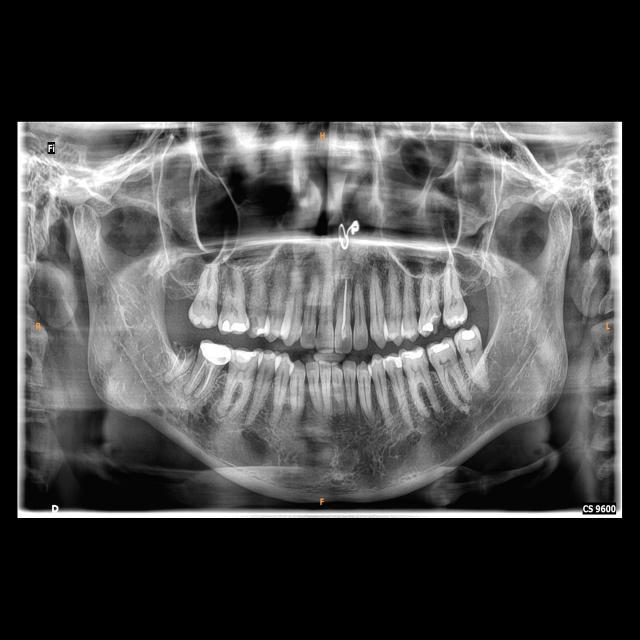dentin-curugu: (428, 310, 448, 336)
dolgu: (232, 344, 260, 366), (429, 339, 452, 362), (456, 326, 482, 346), (402, 346, 428, 366), (222, 315, 250, 333), (251, 315, 272, 337), (384, 353, 402, 373), (419, 315, 435, 335)
kanal-tedavisi: (192, 361, 214, 394), (338, 276, 349, 340), (171, 353, 188, 375)
kaplama: (200, 339, 231, 363)
kirik: (174, 337, 196, 356)
